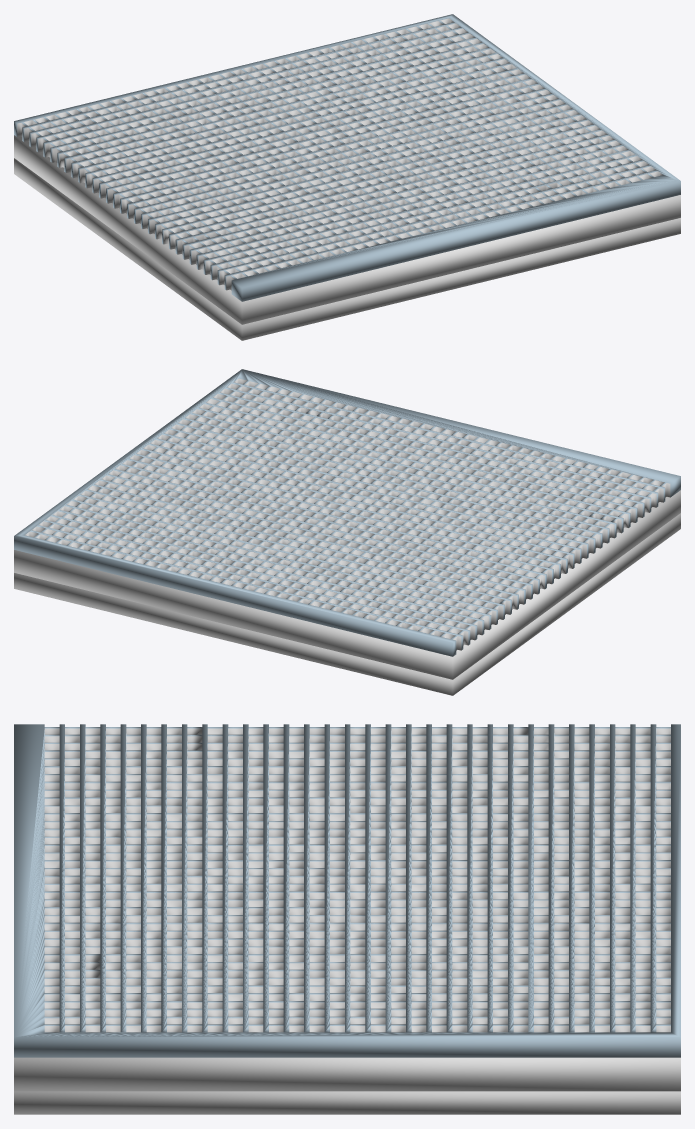
Rendered from mattress.gltf.
3 renders of one model, top to bottom at view 1: azimuth 30°, elevation 25°; view 2: azimuth 150°, elevation 25°; view 3: azimuth 270°, elevation 25°, orthographic. The views are drawn at different scales.
Parts seen in each view (by area): view 1: top_mattress, object_5, object_1; view 2: top_mattress, object_5, object_1; view 3: top_mattress, object_5, object_1.
Boxes of the visible parts, x1,y1,x2,y2 form: top_mattress: [14, 14, 680, 301]; object_5: [14, 135, 680, 324]; object_1: [14, 158, 680, 340]; top_mattress: [14, 369, 680, 656]; object_5: [14, 490, 680, 679]; object_1: [14, 513, 680, 695]; top_mattress: [14, 724, 680, 1057]; object_5: [14, 1057, 680, 1091]; object_1: [14, 1091, 680, 1114].
Bounding box in the file's own units: 2 × 0.23 × 1.8.
